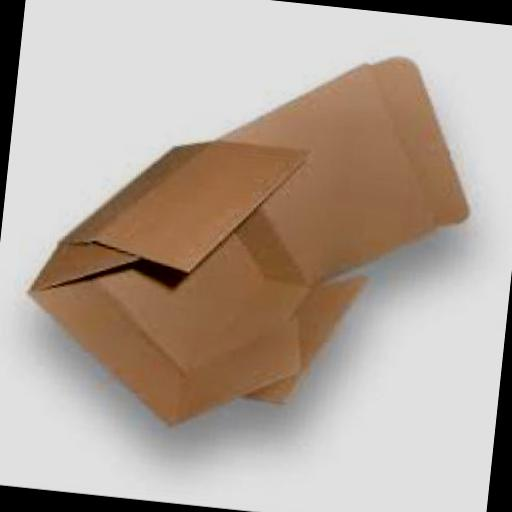cardboard: (18, 24, 485, 461)
